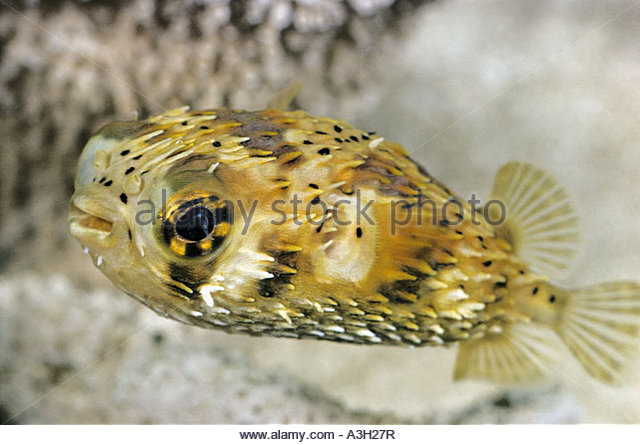Diodon_holocanthus: (49, 104, 628, 397)
